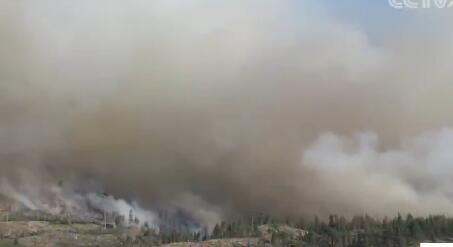smoke: (0, 10, 452, 222)
